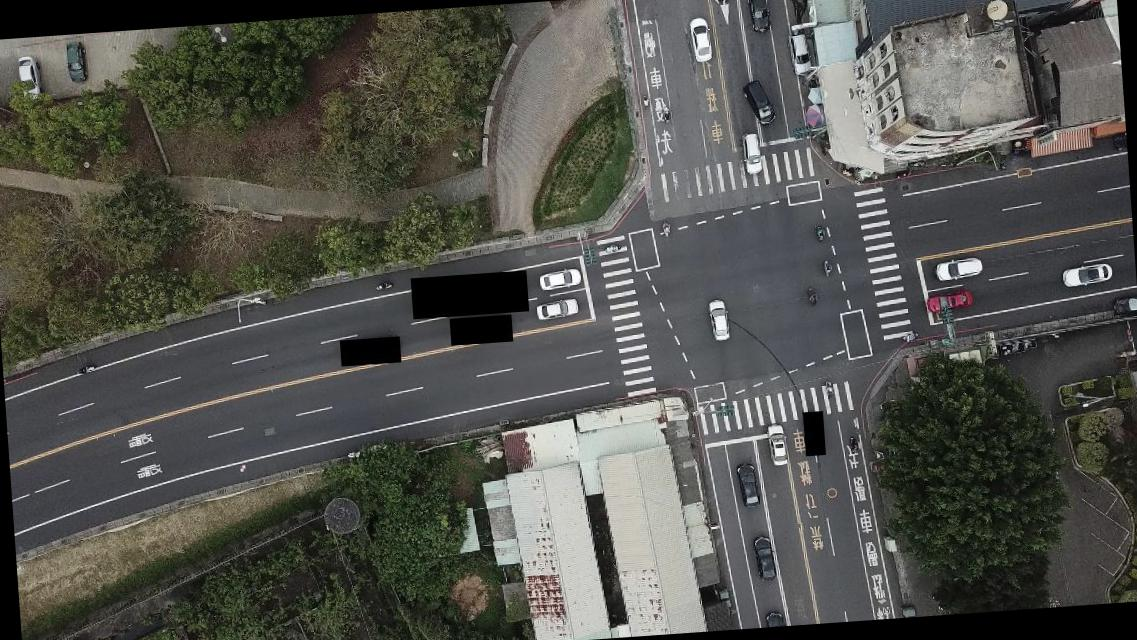vehicle: (740, 77, 776, 126), (1062, 261, 1114, 287), (934, 256, 984, 283), (734, 462, 762, 509), (17, 52, 43, 100), (925, 289, 973, 314), (534, 296, 580, 322), (687, 15, 712, 62), (752, 536, 776, 584), (538, 267, 583, 292), (706, 299, 731, 343), (788, 31, 812, 74), (64, 38, 88, 81), (766, 421, 787, 467), (742, 132, 762, 176), (746, 0, 772, 32), (1108, 290, 1136, 316), (762, 607, 784, 626)
